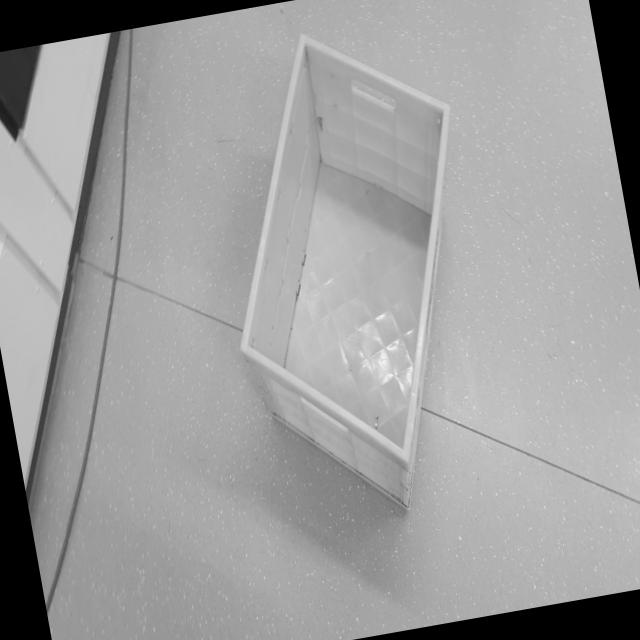box: (180, 0, 532, 555)
